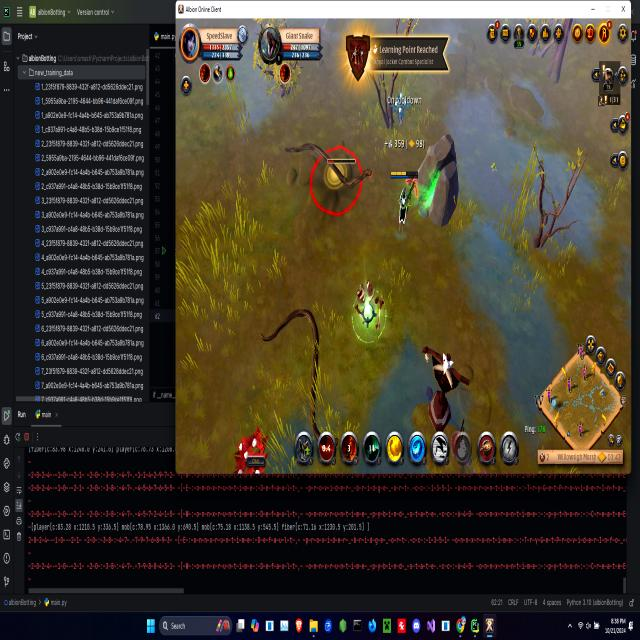hide: (234, 424, 269, 474), (392, 87, 412, 126)
ore: (259, 305, 347, 460), (279, 124, 374, 218)
red: (390, 168, 421, 224)
